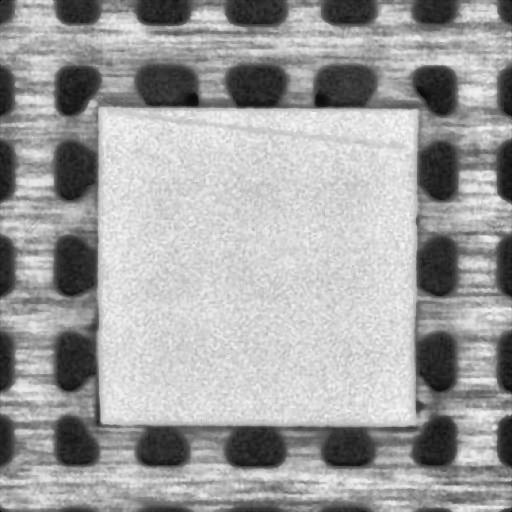DIE_CRACK: (108, 111, 400, 146)
